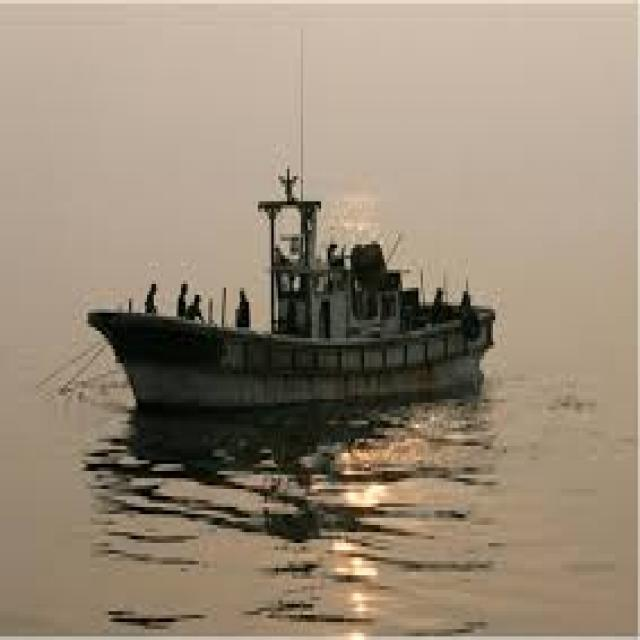Ship: (73, 159, 510, 443)
